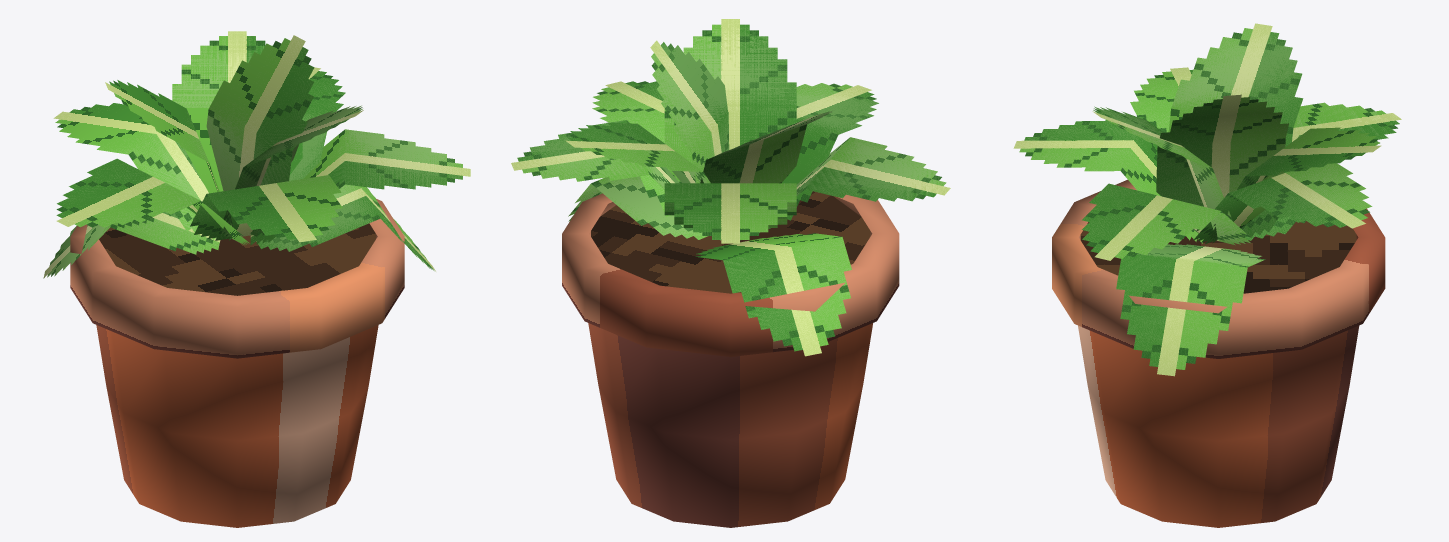
The model's file is moreB-houseplant.glb.
The picture shows the model from 3 angles, left to right: view 1: azimuth 30°, elevation 25°; view 2: azimuth 150°, elevation 25°; view 3: azimuth 270°, elevation 25°; orthographic projection.
Parts seen in each view (by area): view 1: moreB.houseplant; view 2: moreB.houseplant; view 3: moreB.houseplant.
Part boxes in pixels (bbox=[...]): moreB.houseplant: bbox=[43, 31, 470, 527]; moreB.houseplant: bbox=[511, 19, 950, 527]; moreB.houseplant: bbox=[1013, 23, 1401, 527].
Bounding box in the file's own units: 1.77 × 1.72 × 1.61.
4 materials, 4 textured.
